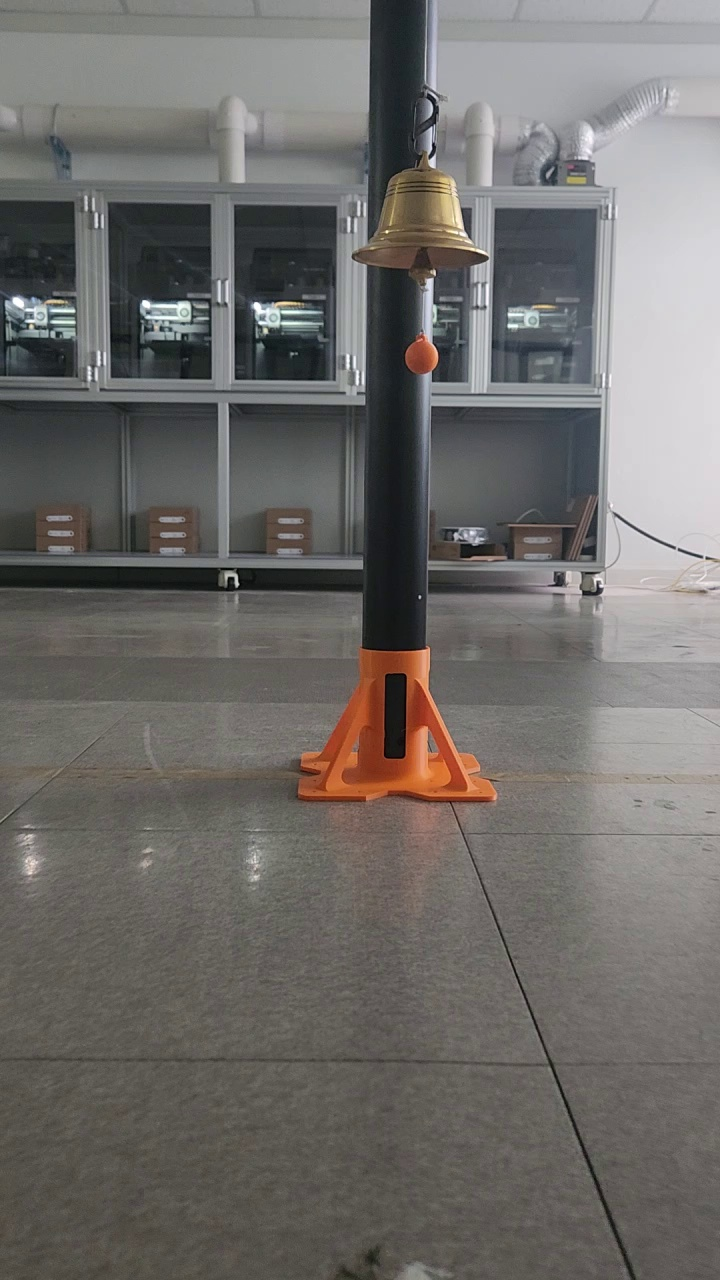bell: (350, 164, 494, 270)
pole: (358, 0, 439, 649)
